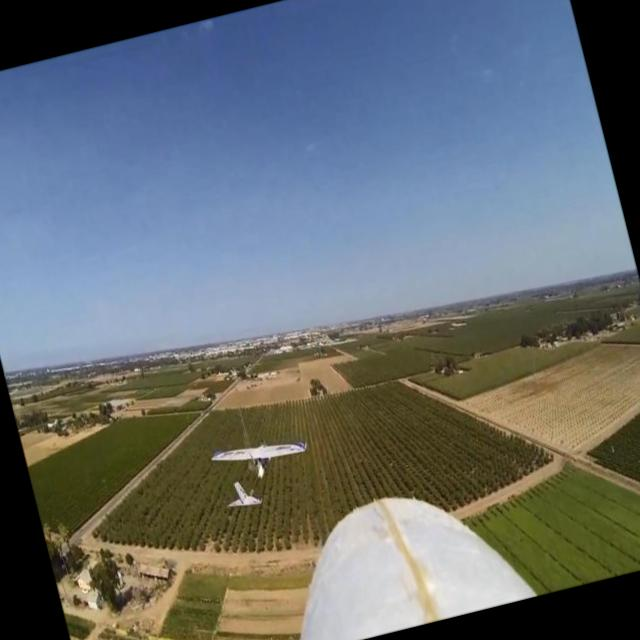UAV: (137, 407, 310, 537)
